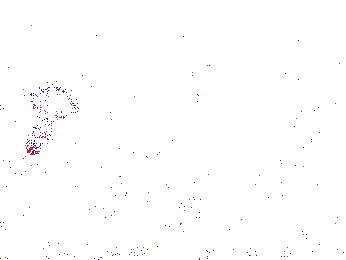flame jellyfish: (24, 80, 81, 155), (142, 173, 203, 229), (71, 166, 128, 217)
